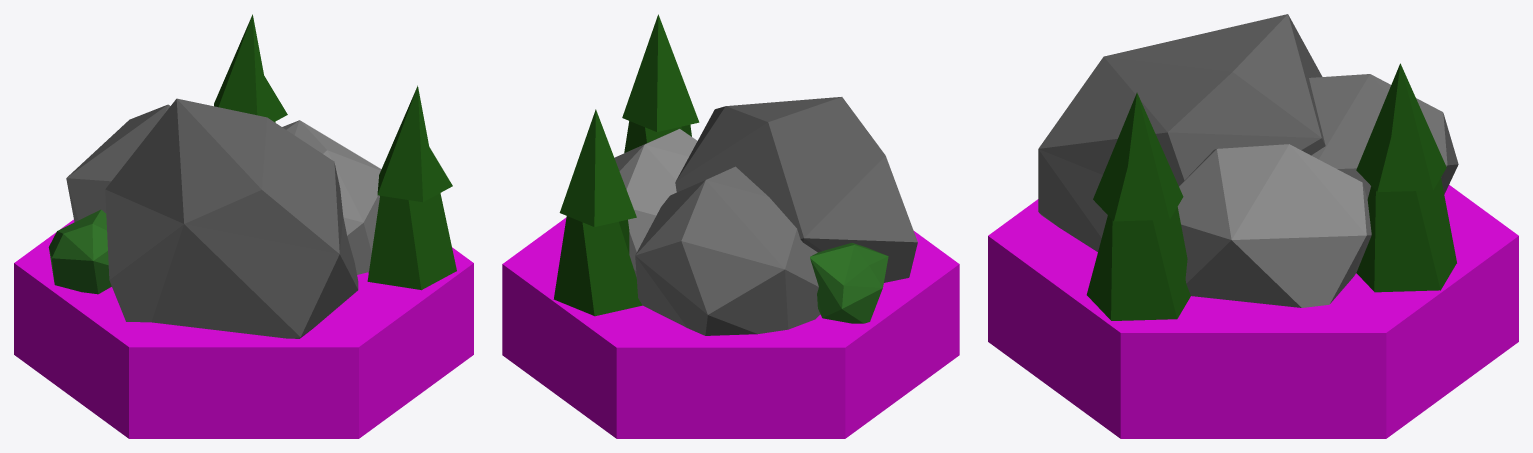
File: Stone1.fbx
The picture shows the model from 3 angles, left to right: view 1: azimuth 30°, elevation 25°; view 2: azimuth 150°, elevation 25°; view 3: azimuth 270°, elevation 25°; orthographic projection. The views are drawn at different scales.
Parts seen in each view (by area): view 1: Cylinder; view 2: Cylinder; view 3: Cylinder.
Boxes of the visible parts, x1,y1,x2,y2 form: Cylinder: (14,14,473,438); Cylinder: (502,14,959,438); Cylinder: (988,14,1518,438).
Bounding box in the file's own units: 173 × 133 × 200.
